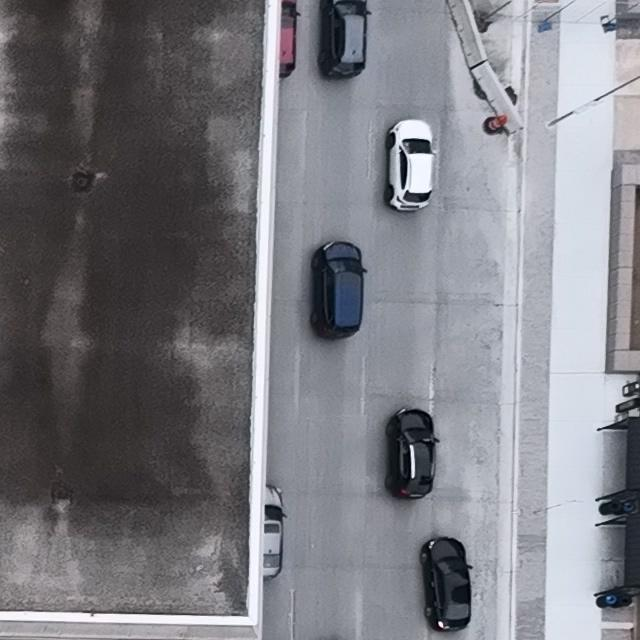car: (310, 242, 368, 338), (384, 407, 441, 501), (418, 534, 473, 631), (385, 118, 436, 212), (318, 0, 373, 78), (264, 484, 287, 579), (279, 0, 300, 77)
